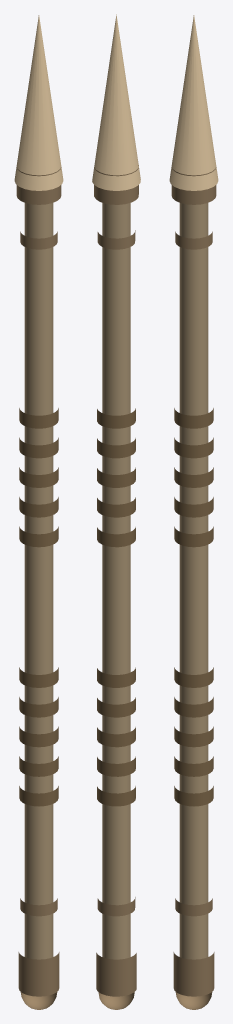
Rendered from wooden_spear.glb.
The picture shows the model from 3 angles, left to right: view 1: azimuth 90°, elevation 25°; view 2: azimuth 150°, elevation 25°; view 3: azimuth 270°, elevation 25°; orthographic projection.
Visible parts, largest first — view 1: WoodenSpear; view 2: WoodenSpear; view 3: WoodenSpear.
Part boxes in pixels (box(x1,y1,x2,y2)): WoodenSpear: box(14, 15, 63, 1009); WoodenSpear: box(92, 14, 140, 1009); WoodenSpear: box(169, 15, 218, 1009).
Bounding box in the file's own units: 0.12 × 2.69 × 0.12.
